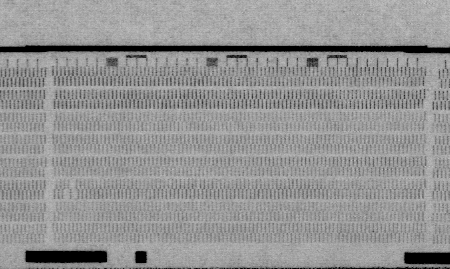Broken hole: (61, 176, 81, 201), (431, 66, 443, 90)
